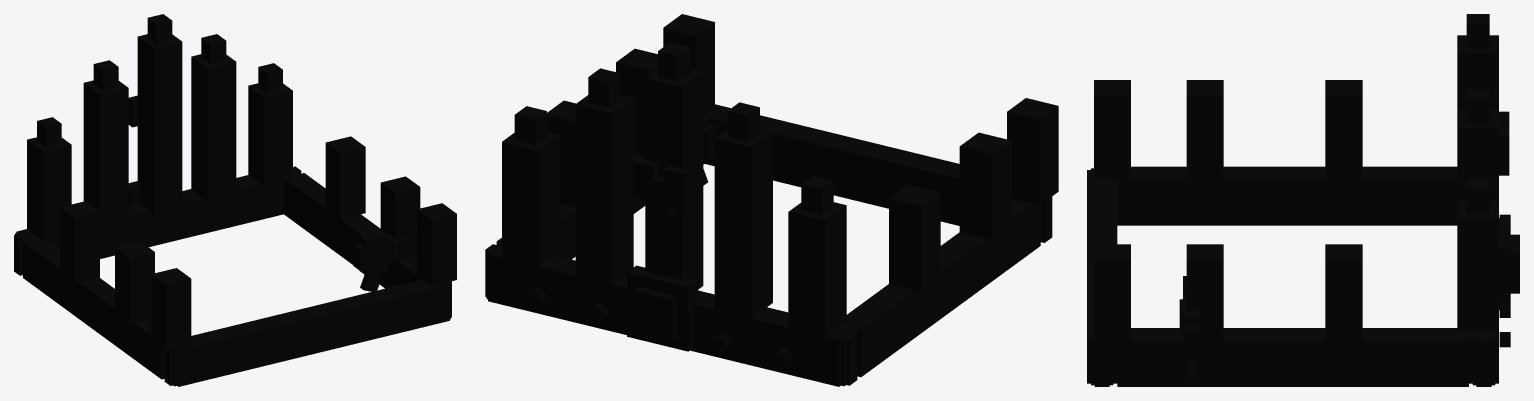
The model's file is hat_frost_diadem.obj.
3 views of the same model, side by side, from view 1: azimuth 30°, elevation 25°; view 2: azimuth 150°, elevation 25°; view 3: azimuth 270°, elevation 25° (orthographic). The views are drawn at different scales.
Bounding box in the file's own units: 0.6094 × 0.4187 × 0.5844.
